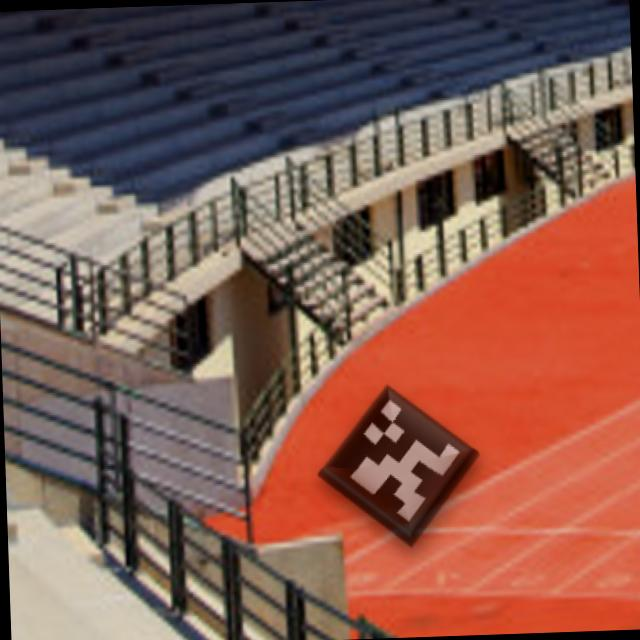marker: (306, 374, 488, 555)
